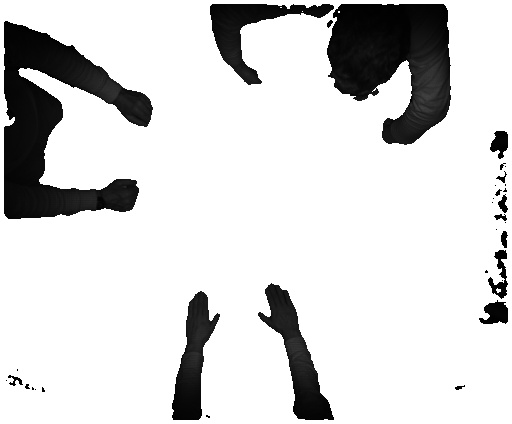fist: (117, 89, 159, 127), (103, 176, 143, 215), (240, 66, 263, 87)
hand: (256, 280, 303, 335), (184, 288, 223, 349)
